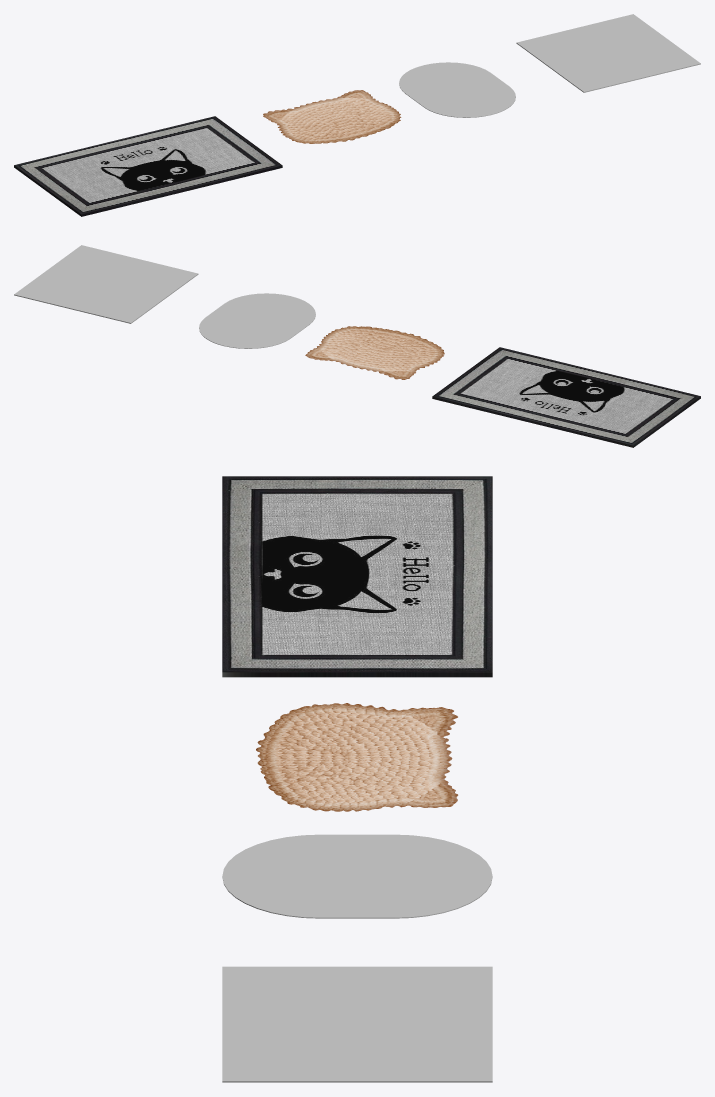
File: Rugs.fbx
3 views of the same model, one above another, from view 1: azimuth 30°, elevation 25°; view 2: azimuth 150°, elevation 25°; view 3: azimuth 270°, elevation 25° (orthographic). The views are drawn at different scales.
Parts seen in each view (by area): view 1: Cat rug, Rainbow, Abc rug, Cat face rug; view 2: Cat rug, Rainbow, Abc rug, Cat face rug; view 3: Cat rug, Rainbow, Abc rug, Cat face rug.
Boxes of the visible parts, box(x1,y1,x2,y2) form: Cat rug: box(14, 116, 282, 216); Rainbow: box(516, 14, 700, 92); Abc rug: box(399, 62, 515, 117); Cat face rug: box(263, 90, 401, 143); Cat rug: box(432, 347, 700, 447); Rainbow: box(14, 245, 198, 323); Abc rug: box(199, 293, 315, 348); Cat face rug: box(305, 326, 444, 379); Cat rug: box(222, 476, 492, 677); Rainbow: box(222, 966, 492, 1082); Abc rug: box(222, 834, 492, 918); Cat face rug: box(256, 703, 458, 811).
Bounding box in the file's own units: 1059 × 3.71 × 200.
